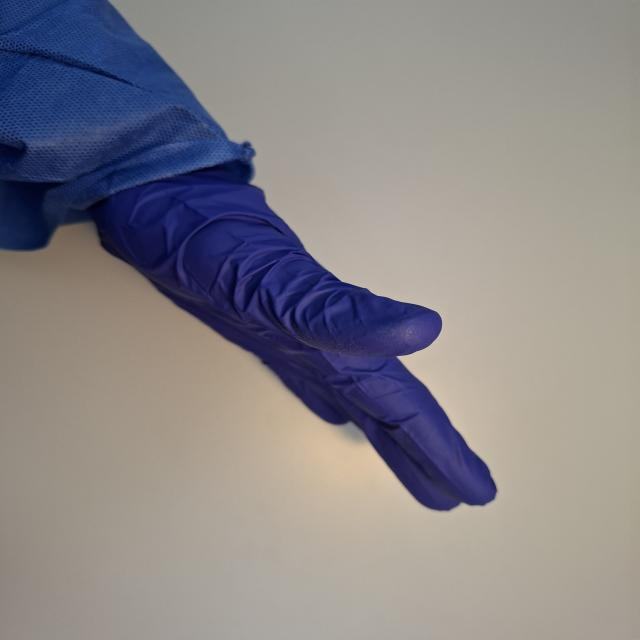glove_on: (85, 152, 501, 513)
